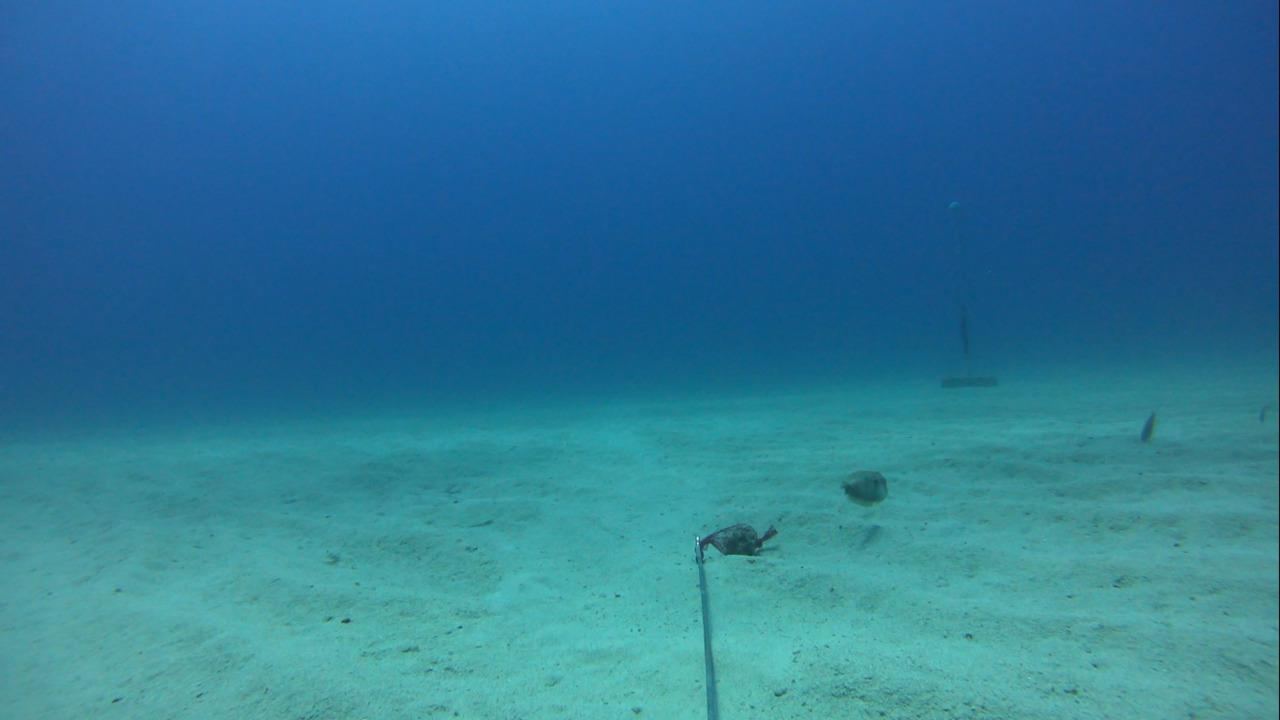raor: (826, 463, 898, 505), (1133, 403, 1176, 450)
